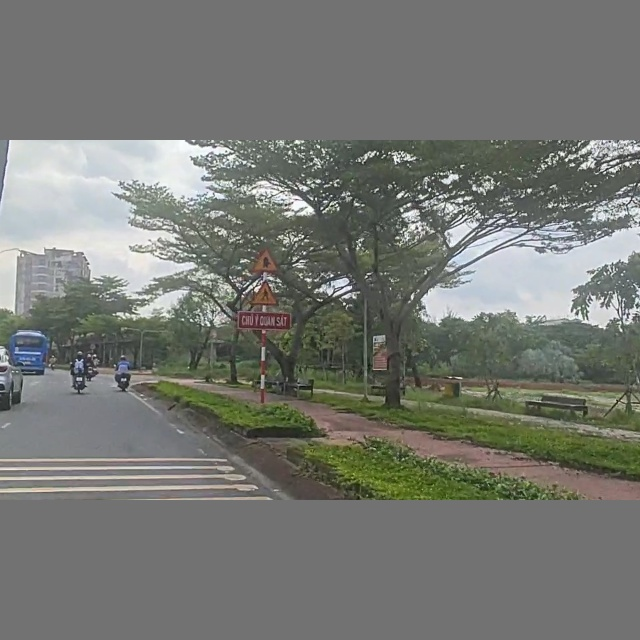W.207: (249, 248, 281, 275)
W.224: (247, 279, 283, 308)
